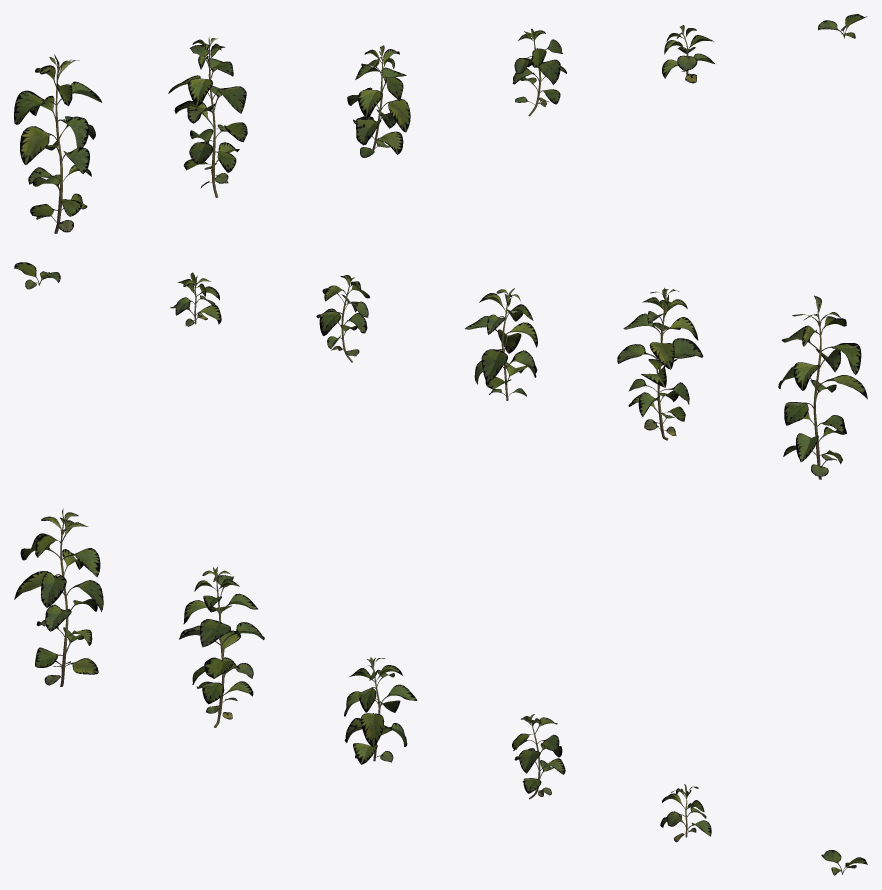
The model's file is nettle_plant.glb.
The picture shows the model from 3 angles, top to bottom: view 1: azimuth 30°, elevation 25°; view 2: azimuth 150°, elevation 25°; view 3: azimuth 330°, elevation 25°; orthographic projection.
Visible parts, largest first — view 1: nettle_plant_tall_a_LOD0, nettle_plant_tall_b_LOD0, nettle_plant_medium_a_LOD0, nettle_plant_medium_b_LOD0, nettle_plant_small_a_LOD0; view 2: nettle_plant_tall_a_LOD0, nettle_plant_tall_b_LOD0, nettle_plant_medium_a_LOD0, nettle_plant_medium_b_LOD0, nettle_plant_small_a_LOD0, nettle_plant_small_b_LOD0; view 3: nettle_plant_tall_a_LOD0, nettle_plant_tall_b_LOD0, nettle_plant_medium_a_LOD0, nettle_plant_medium_b_LOD0, nettle_plant_small_a_LOD0.
Boxes of the visible parts, x1,y1,x2,y2 form: nettle_plant_tall_a_LOD0: (14,54,102,233); nettle_plant_tall_b_LOD0: (168,36,247,197); nettle_plant_medium_a_LOD0: (347,45,410,157); nettle_plant_medium_b_LOD0: (512,28,566,116); nettle_plant_small_a_LOD0: (662,25,714,83); nettle_plant_tall_a_LOD0: (778,295,867,479); nettle_plant_tall_b_LOD0: (617,288,703,440); nettle_plant_medium_a_LOD0: (465,288,537,400); nettle_plant_medium_b_LOD0: (316,275,369,362); nettle_plant_small_a_LOD0: (170,272,221,326); nettle_plant_small_b_LOD0: (14,262,60,289); nettle_plant_tall_a_LOD0: (14,508,103,686); nettle_plant_tall_b_LOD0: (179,567,264,727); nettle_plant_medium_a_LOD0: (344,657,417,764); nettle_plant_medium_b_LOD0: (512,714,565,799); nettle_plant_small_a_LOD0: (660,784,711,842).
Bounding box in the file's own units: 1.08 × 0.2184 × 0.0947.
1 material, 1 textured.
